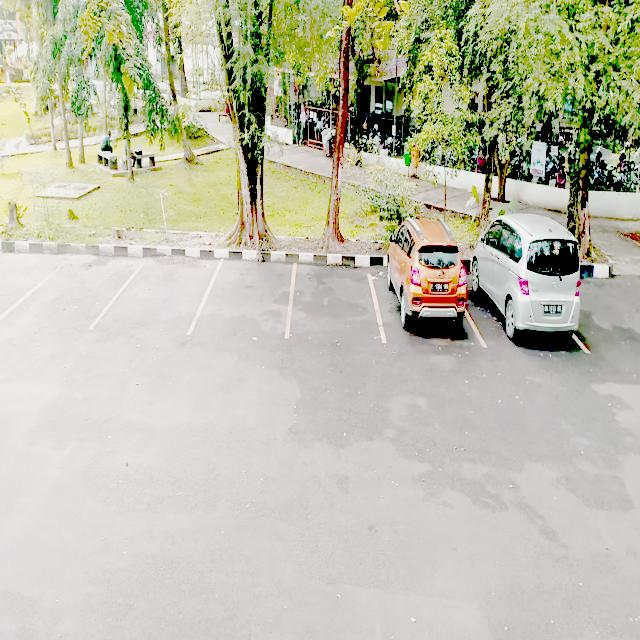empty: (112, 244, 208, 335), (292, 247, 382, 343), (205, 244, 295, 340), (30, 250, 119, 332), (0, 245, 33, 322)
occupied: (474, 230, 586, 352), (382, 238, 472, 347)
